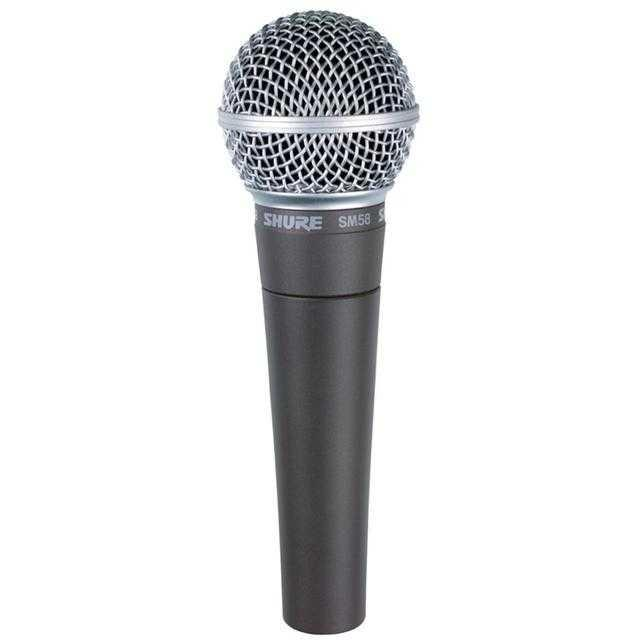microphone: (220, 22, 433, 627)
